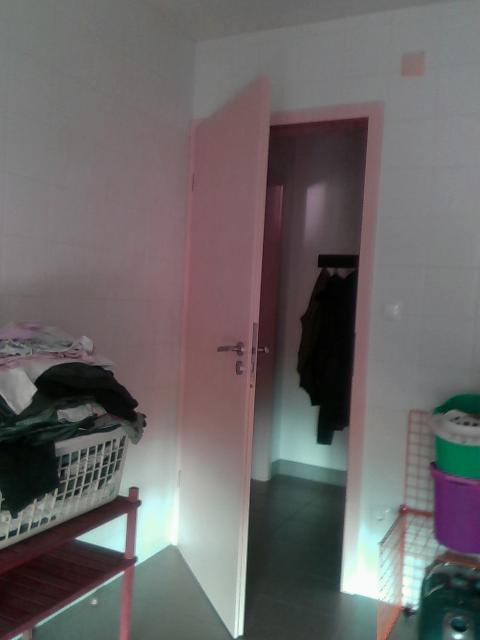semi_door: (170, 68, 389, 639)
